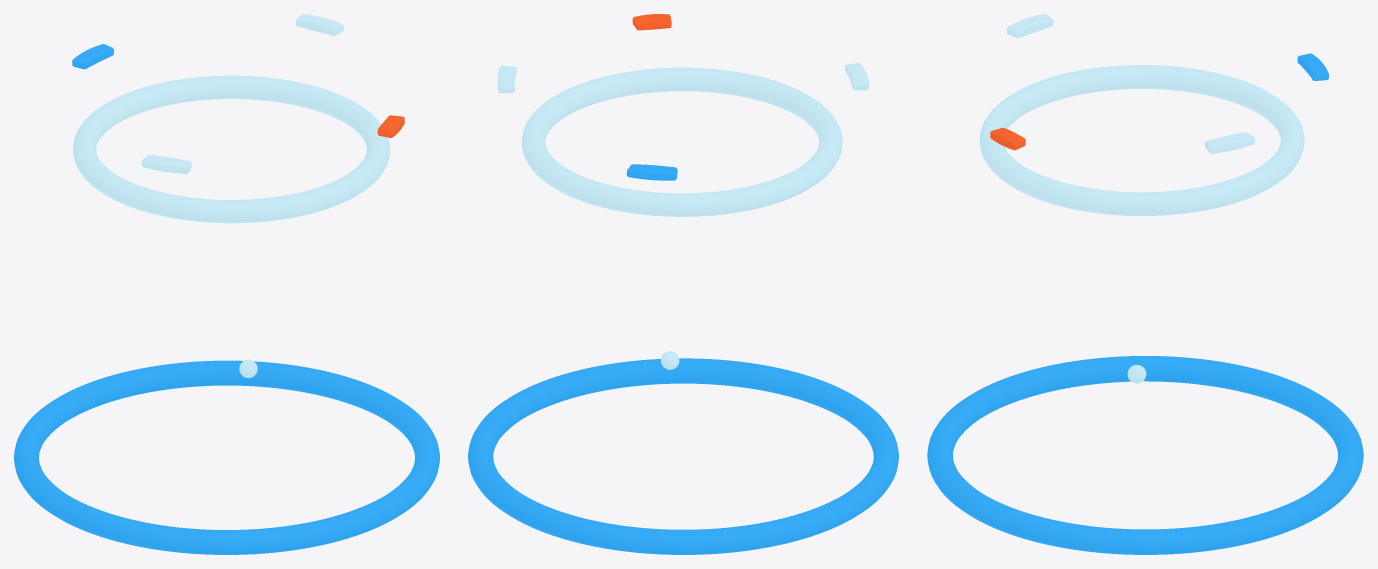
File: ev_core_r11c_energy.glb
The picture shows the model from 3 angles, left to right: view 1: azimuth 30°, elevation 25°; view 2: azimuth 150°, elevation 25°; view 3: azimuth 270°, elevation 25°; orthographic projection. The views are drawn at different scales.
Visible parts, largest first — view 1: RearContainmentRing, ConfinementField, EnergySeam_2, EnergySeam_0, EnergySeam_1; view 2: RearContainmentRing, ConfinementField, EnergySeam_1, EnergySeam_3; view 3: RearContainmentRing, ConfinementField, EnergySeam_0, EnergySeam_2, EnergySeam_1, EnergySeam_3.
Part boxes in pixels (bbox=[...]): RearContainmentRing: bbox=[14, 360, 439, 554]; ConfinementField: bbox=[73, 75, 390, 223]; EnergySeam_2: bbox=[141, 155, 191, 173]; EnergySeam_0: bbox=[295, 14, 343, 35]; EnergySeam_1: bbox=[72, 44, 113, 69]; RearContainmentRing: bbox=[468, 358, 898, 554]; ConfinementField: bbox=[521, 67, 842, 216]; EnergySeam_1: bbox=[626, 164, 677, 180]; EnergySeam_3: bbox=[632, 14, 671, 30]; RearContainmentRing: bbox=[927, 356, 1363, 554]; ConfinementField: bbox=[979, 65, 1304, 215]; EnergySeam_0: bbox=[1204, 132, 1254, 153]; EnergySeam_2: bbox=[1006, 14, 1053, 38]; EnergySeam_1: bbox=[1297, 53, 1328, 80]; EnergySeam_3: bbox=[990, 127, 1025, 150].
Bounding box in the file's own units: 2.55 × 2.55 × 2.55.
